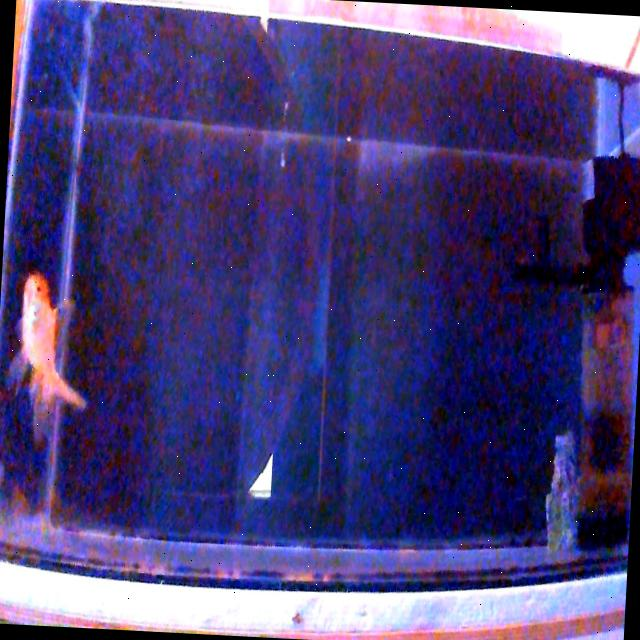fish: (13, 269, 95, 415)
